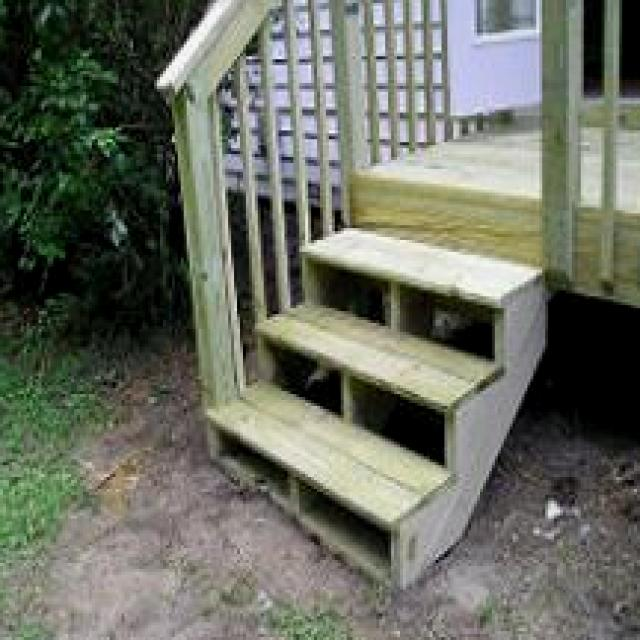upstair: (200, 164, 540, 531)
